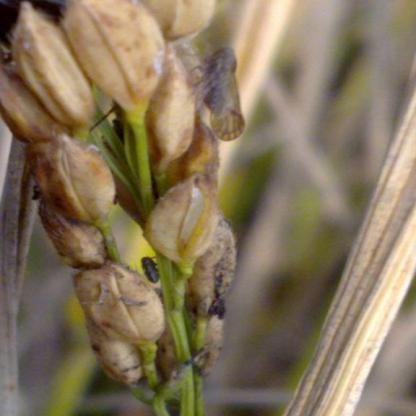brown-planthopper: (196, 43, 246, 142)
